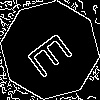E: (25, 25, 82, 80)
